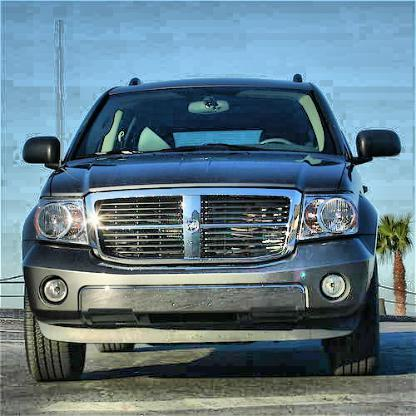Dodge Durango SUV 2007: (25, 76, 401, 378)
